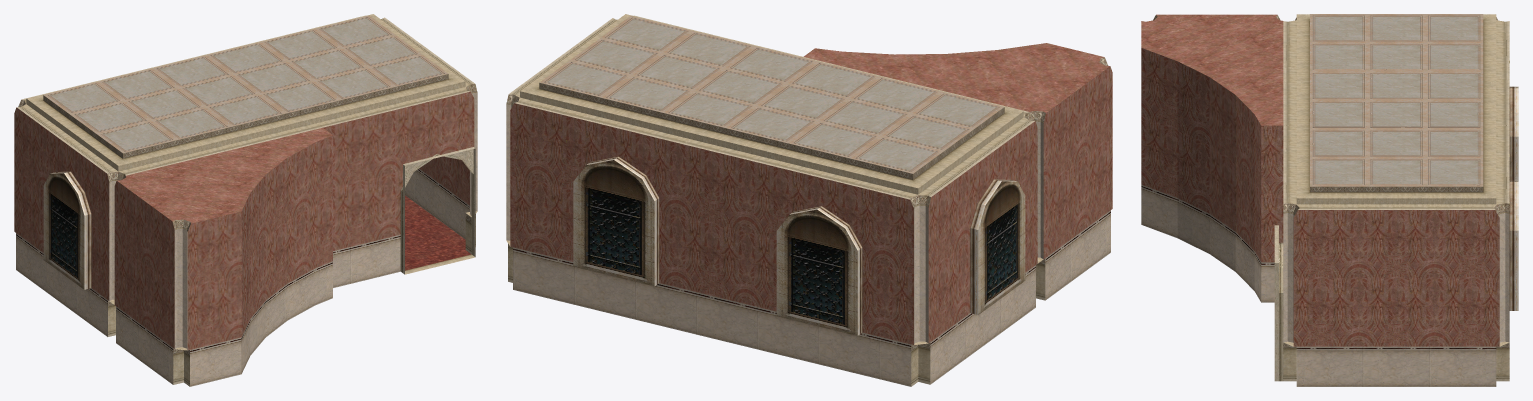
File: ply_nboo_house_m_s01_fp1_r5_roomf2_mesh_r5.fbx
3 views of the same model, side by side, from view 1: azimuth 30°, elevation 25°; view 2: azimuth 150°, elevation 25°; view 3: azimuth 270°, elevation 25° (orthographic). The views are drawn at different scales.
Visible parts, largest first — view 1: mesh_node; view 2: mesh_node; view 3: mesh_node.
Boxes of the visible parts, <box> form: mesh_node: <box>14,14,477,386</box>; mesh_node: <box>506,14,1112,386</box>; mesh_node: <box>1141,14,1518,386</box>.
Size of the model in its own units: 10.6 by 4.7 by 8.5.
